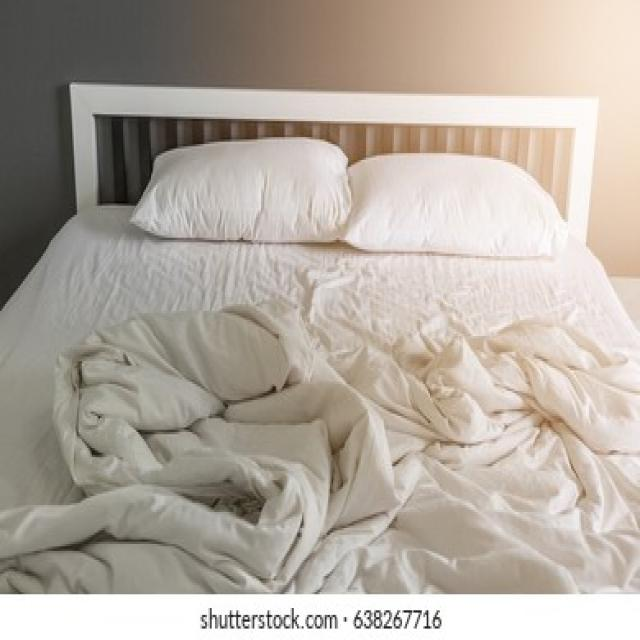bed: (0, 100, 640, 598)
